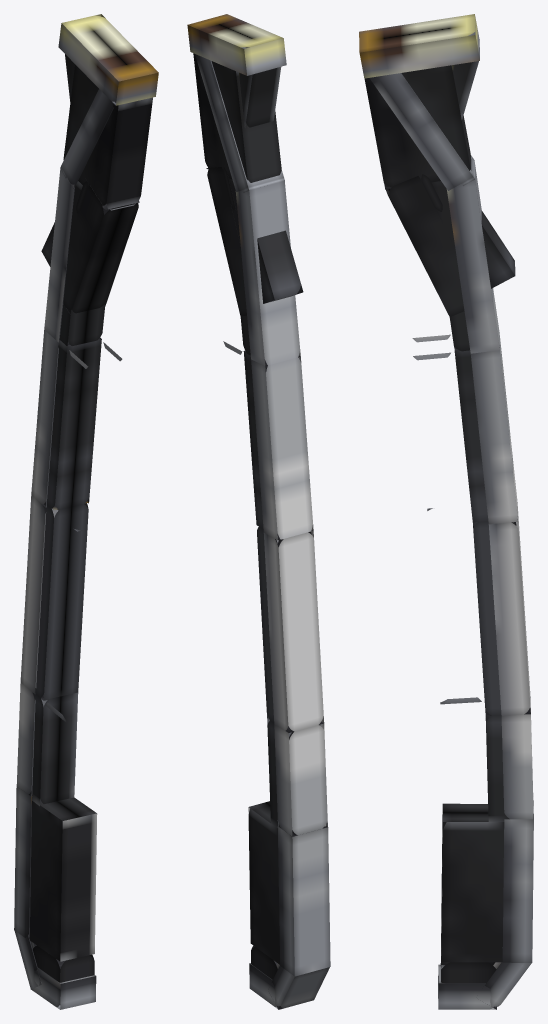
The model's file is uchigatana_sheath.obj.
3 views of the same model, side by side, from view 1: azimuth 30°, elevation 25°; view 2: azimuth 210°, elevation 25°; view 3: azimuth 270°, elevation 25° (orthographic). The views are drawn at different scales.
Parts seen in each view (by area): view 1: cube.025; view 2: cube.025; view 3: cube.025.
Boxes of the visible parts, box(x1,y1,x2,y2) form: cube.025: box(14, 14, 158, 1009); cube.025: box(187, 14, 330, 1009); cube.025: box(359, 14, 533, 1009).
Size of the model in its own units: 0.1093 by 1.67 by 0.2682.
